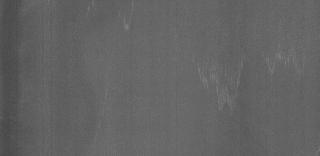silk spot: (195, 44, 308, 120)
